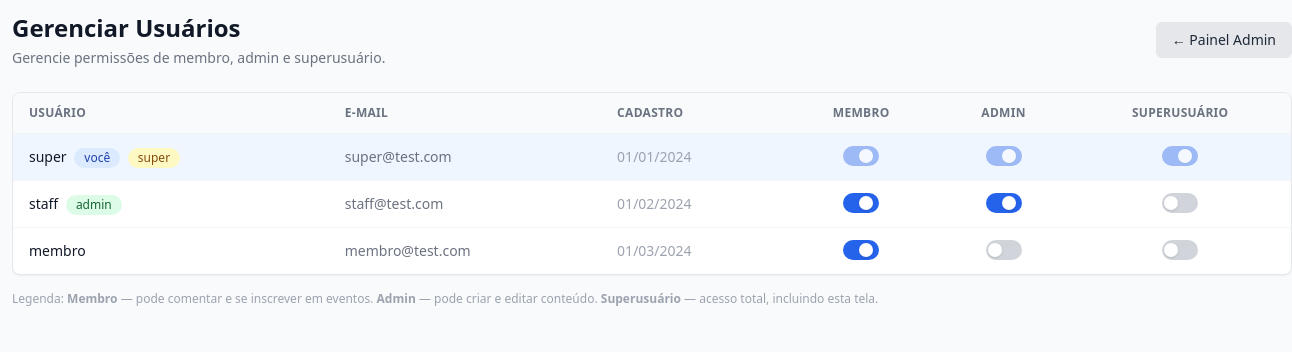
UsersAdminPage — toggles › exibe mensagem de sucesso após salvar
The width and height of the screenshot is (1292, 352).
Expected: the text "membro@test.com" is shown, [329, 228, 601, 274]
What coordinates should you click on to do the following:
click the button named "Alternar is_staff de membro"
I would click on:
 (1004, 250)
Its box is [986, 240, 1022, 260].
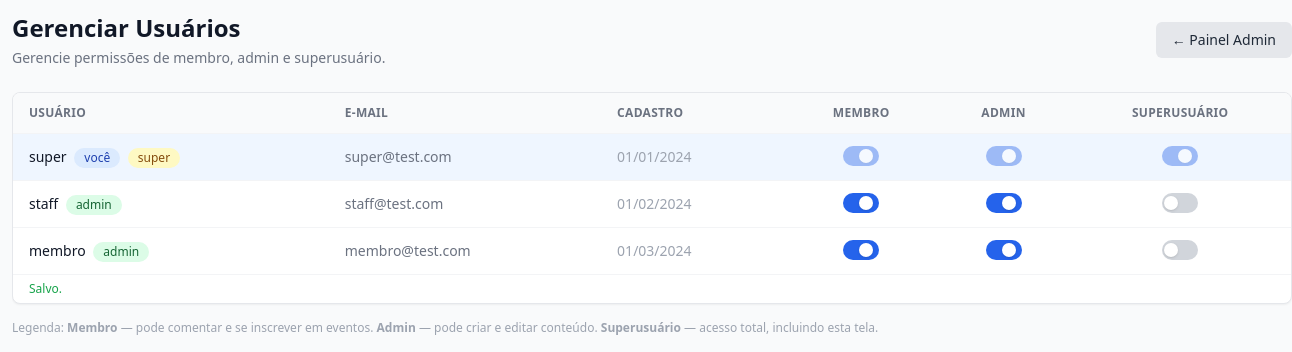
Expected: the text "Salvo." is shown, [13, 274, 1291, 303]
